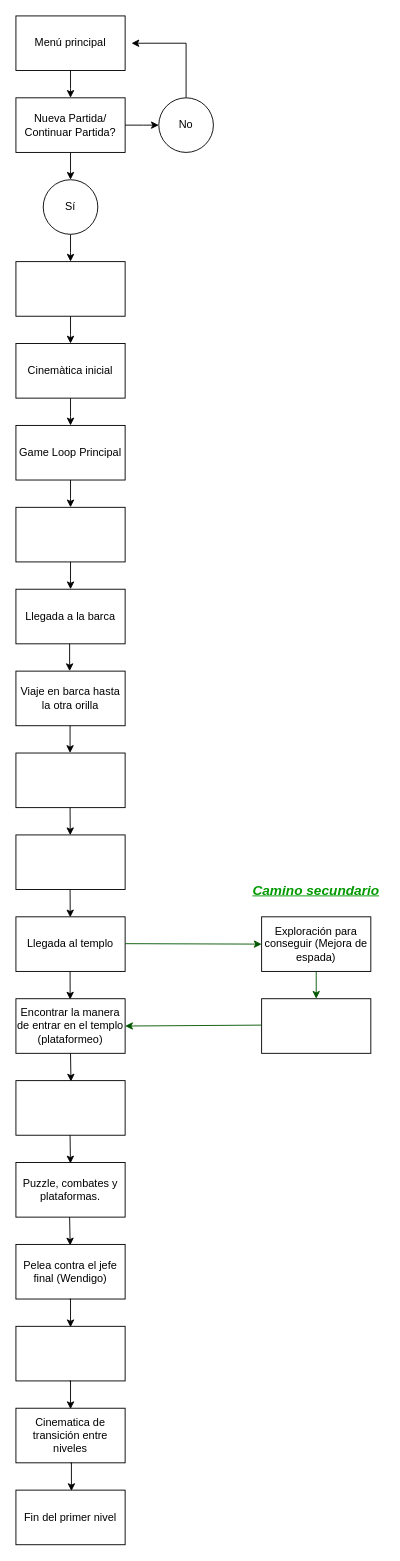
Some shapes in this 400 by 1561 pixel diagram are drawn without their labels. The shapes that lost their labels are listed below. From the top down, each one's centre as x and y in pixels, then its label:
(x=70, y=288): Inici del joc
(x=70, y=534): Tutorial Plataformeo
(x=70, y=780): Tutorial de combate
(x=70, y=862): Camino hacia el templo (zona mixta de plataformas + combate)
(x=316, y=1025): Conseguirla mediante una pelea con un grupo de enemigos
(x=70, y=1107): Entrada, y comenzar la "mini-mazmorra"
(x=70, y=1353): Conseguir la reliquia del templo (arco)
